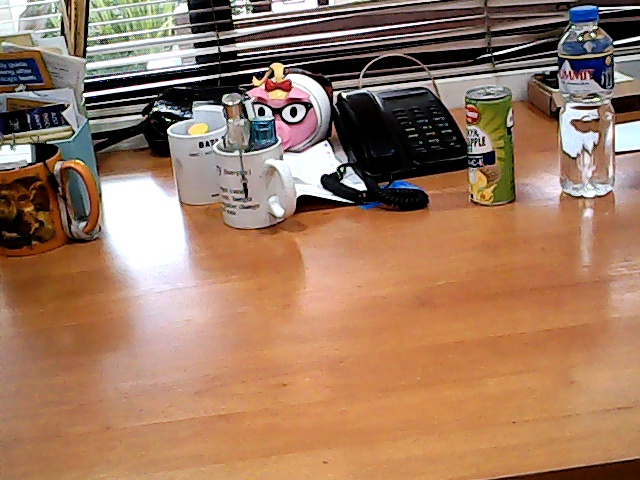Pine Juice: (455, 73, 527, 222)
Summit Water: (545, 1, 632, 217)
